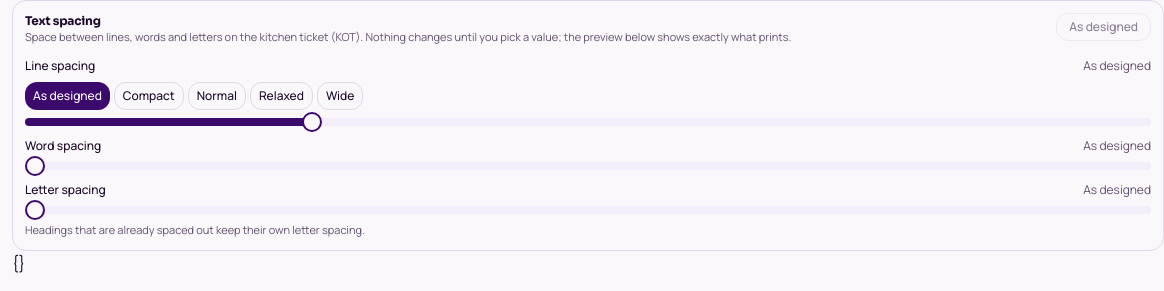
Test case: the settings card › on the KOT tab it writes the KOT keys
Click the button "Compact" at (149, 96), box [114,82,184,110]
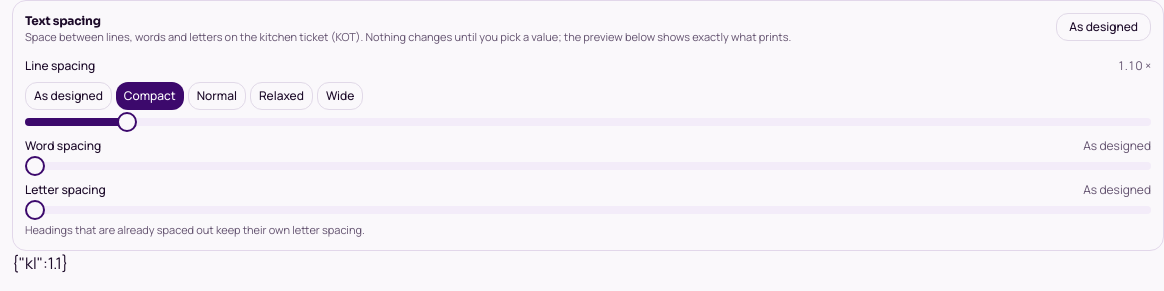
Expected: the text with test id "state" reads "{\"kl\":1.1}", [12,252,68,274]
